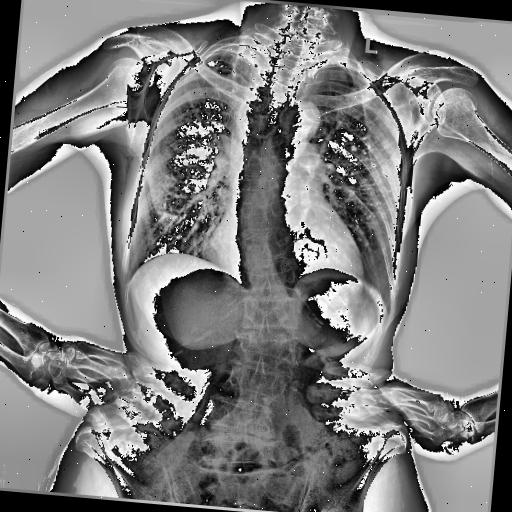0- Aortic enlargement: (280, 100, 322, 144), (280, 98, 322, 140)
11- Pleural thickening: (210, 42, 270, 75), (220, 40, 272, 70), (316, 57, 358, 74)
13- Pulmonary fibrosis: (340, 132, 400, 240), (340, 134, 398, 222)
2- Calcification: (340, 132, 400, 240), (340, 134, 398, 222), (345, 132, 393, 180)
3- Cardiomegaly: (209, 218, 368, 296)
9- Other lesion: (220, 97, 306, 284), (239, 102, 275, 270), (235, 80, 261, 156)
